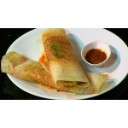dosa: (1, 47, 104, 94), (40, 28, 91, 94)
